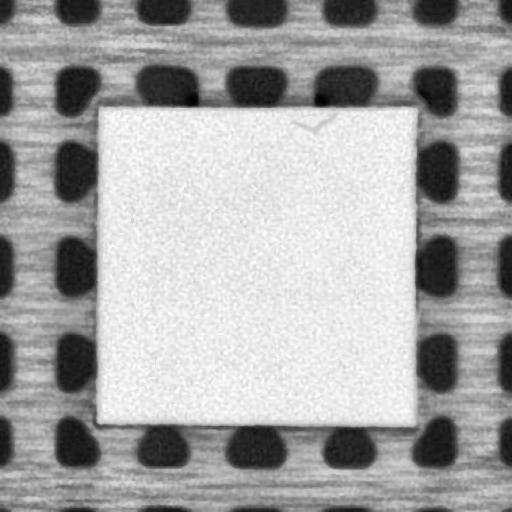DIE_CRACK: (288, 110, 340, 135)
